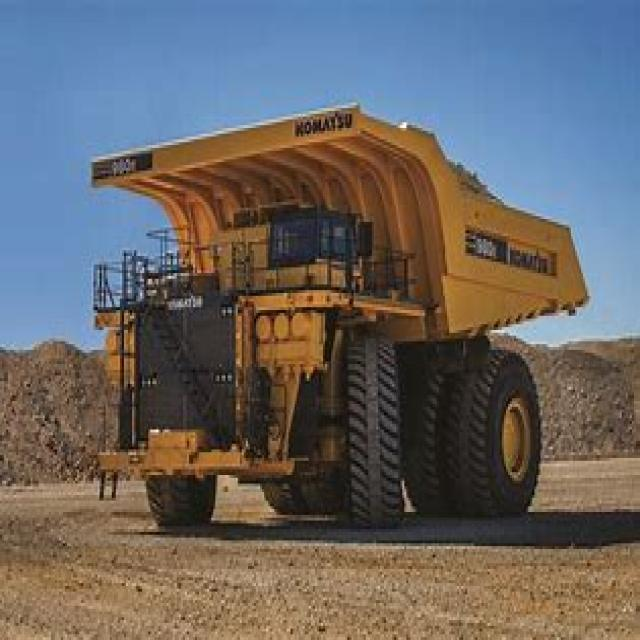dump_truck: (75, 80, 587, 540)
